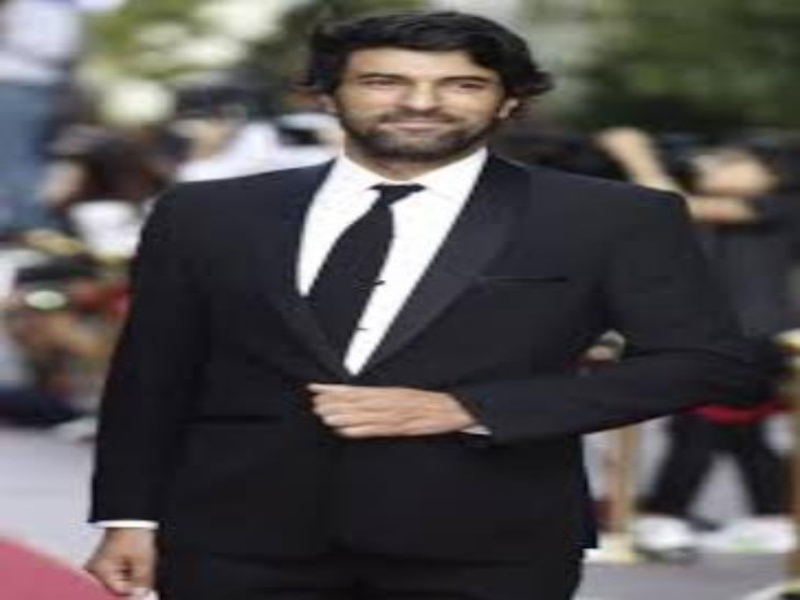TsisyArotava: (313, 9, 546, 179)
